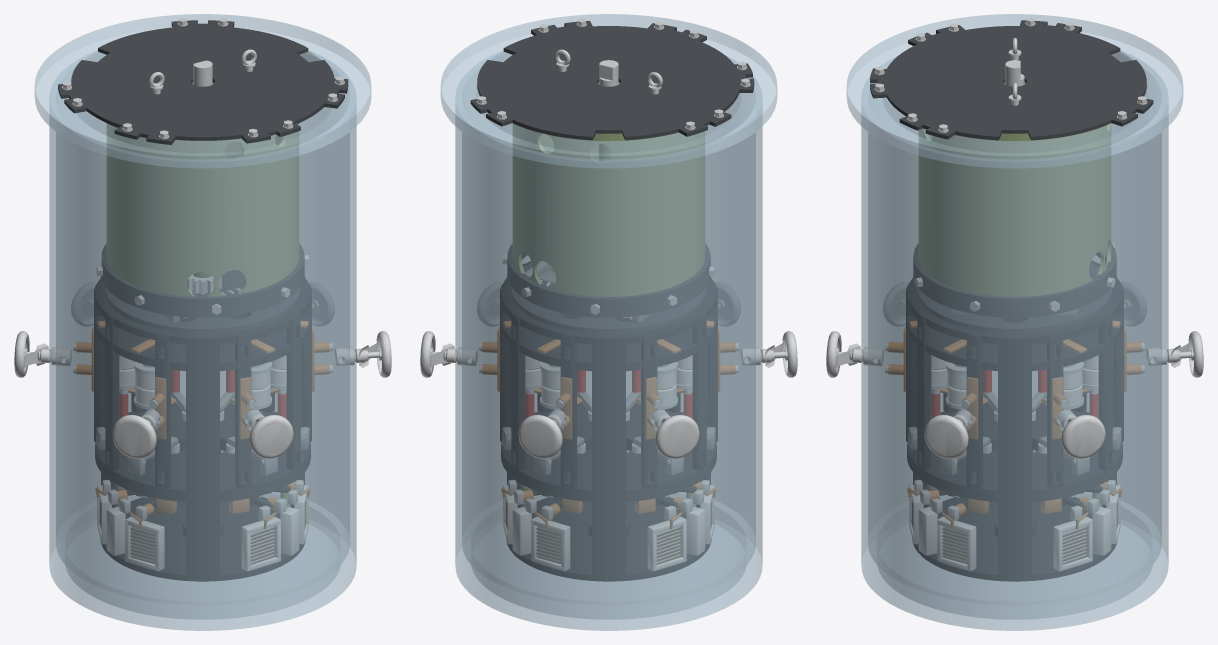
Rendered from cm2-insert.glb.
3 renders of one model, left to right at view 1: azimuth 30°, elevation 25°; view 2: azimuth 150°, elevation 25°; view 3: azimuth 270°, elevation 25°, orthographic.
Visible parts, largest first — view 1: comp, ins-frame, comp-term, resistor, accum, vi, ins-cam, ins-term, transfer, ins-shaft, main-contact; view 2: comp, ins-frame, comp-term, resistor, vi, accum, ins-cam, ins-term, transfer, ins-shaft, main-contact; view 3: comp, ins-frame, comp-term, resistor, vi, accum, ins-cam, ins-term, transfer, main-contact.
Boxes of the visible parts, x1,y1,x2,y2 form: comp: (34,14,371,630); ins-frame: (58,17,348,581); comp-term: (14,282,391,458); resistor: (95,450,310,571); accum: (105,270,300,333); vi: (97,321,308,410); ins-cam: (96,370,309,475); ins-term: (73,327,332,439); transfer: (102,449,303,520); ins-shaft: (146,60,259,498); main-contact: (156,498,249,513); comp: (440,14,777,630); ins-frame: (470,18,754,581); comp-term: (420,282,797,458); resistor: (501,450,716,571); vi: (503,321,714,410); accum: (511,261,706,333); ins-cam: (502,370,715,475); ins-term: (479,327,738,439); transfer: (508,449,709,520); ins-shaft: (552,60,665,498); main-contact: (562,498,655,513); comp: (846,14,1183,630); ins-frame: (870,17,1153,581); comp-term: (826,282,1203,458); resistor: (907,450,1122,571); vi: (909,321,1120,410); accum: (917,262,1112,333); ins-cam: (908,370,1121,475); ins-term: (885,327,1144,439); transfer: (914,449,1115,520); main-contact: (968,498,1061,513).
Bounding box in the file's own units: 0.5445 × 0.8675 × 0.5872.
